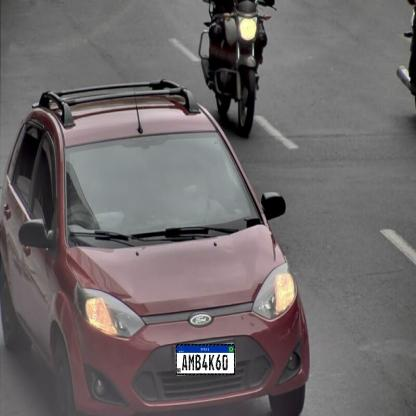PlacaM: (176, 344, 235, 375)
